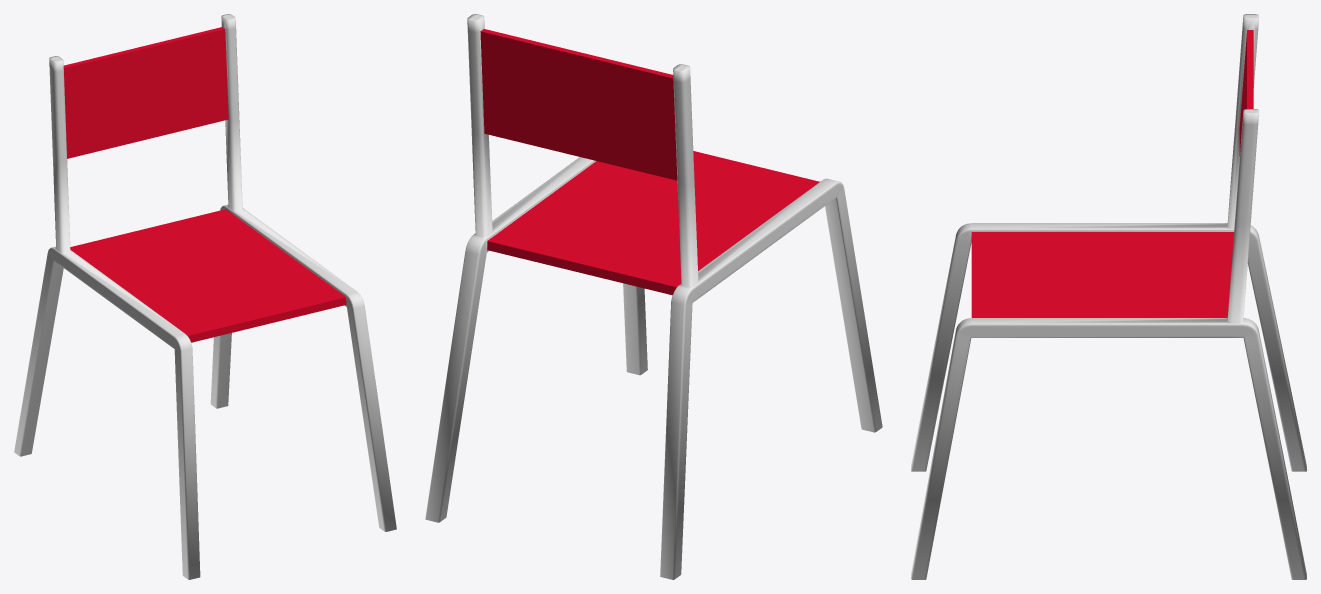
Rendered from VerandaChair.fbx.
The picture shows the model from 3 angles, left to right: view 1: azimuth 30°, elevation 25°; view 2: azimuth 150°, elevation 25°; view 3: azimuth 270°, elevation 25°; orthographic projection. The views are drawn at different scales.
Parts seen in each view (by area): view 1: Cube; view 2: Cube; view 3: Cube.
Boxes of the visible parts, x1=… form: Cube: x1=14, y1=14, x2=396, y2=579; Cube: x1=425, y1=14, x2=882, y2=579; Cube: x1=911, y1=14, x2=1306, y2=579.
Bounding box in the file's own units: 43 × 80 × 62.6.
